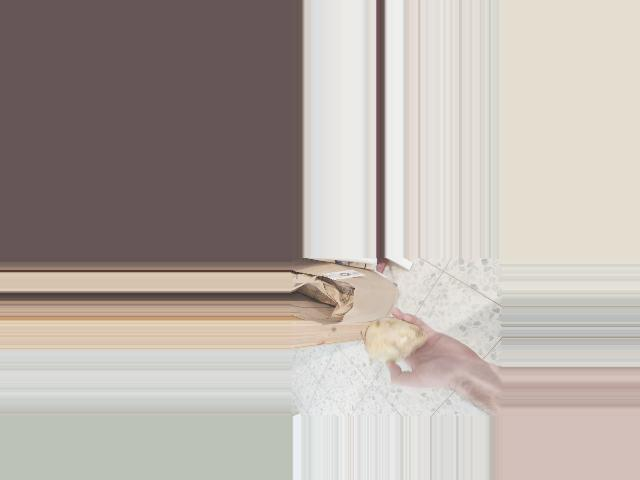onion: (359, 316, 427, 365)
